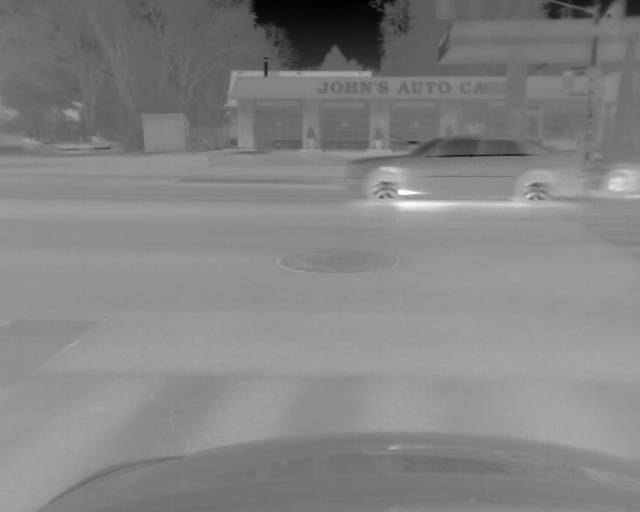car: (346, 131, 582, 205), (584, 153, 640, 198)
